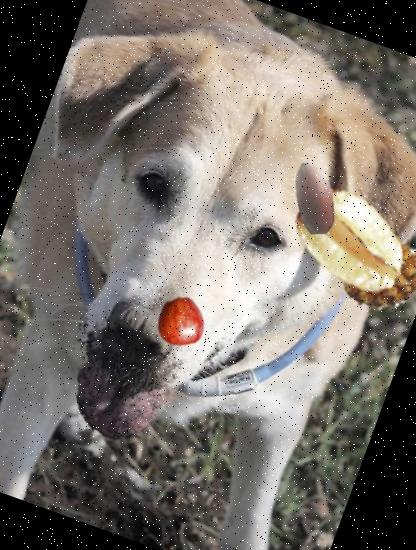Apple: (148, 290, 214, 354)
Carambula: (270, 162, 416, 321)
Hazelnut: (266, 148, 364, 246)
Pineapple: (327, 217, 416, 327)
